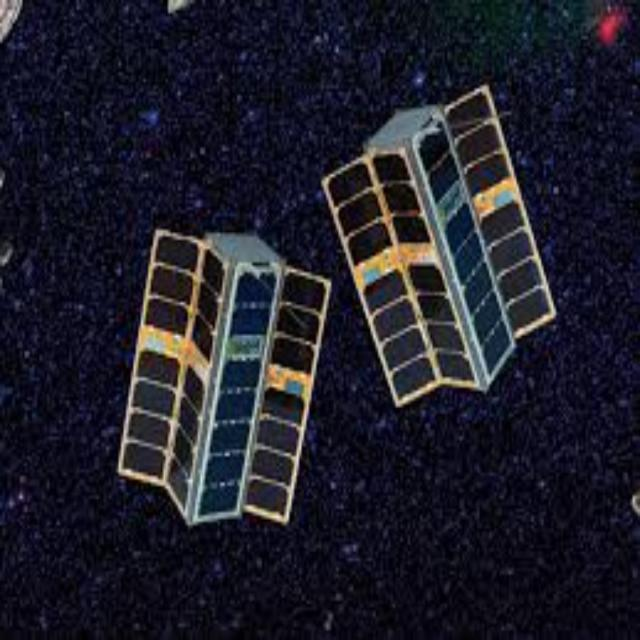medium_debris: (310, 66, 566, 404), (104, 219, 340, 544)
